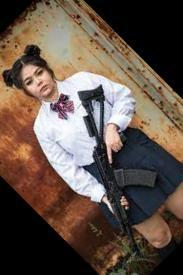larga: (78, 83, 160, 252)
